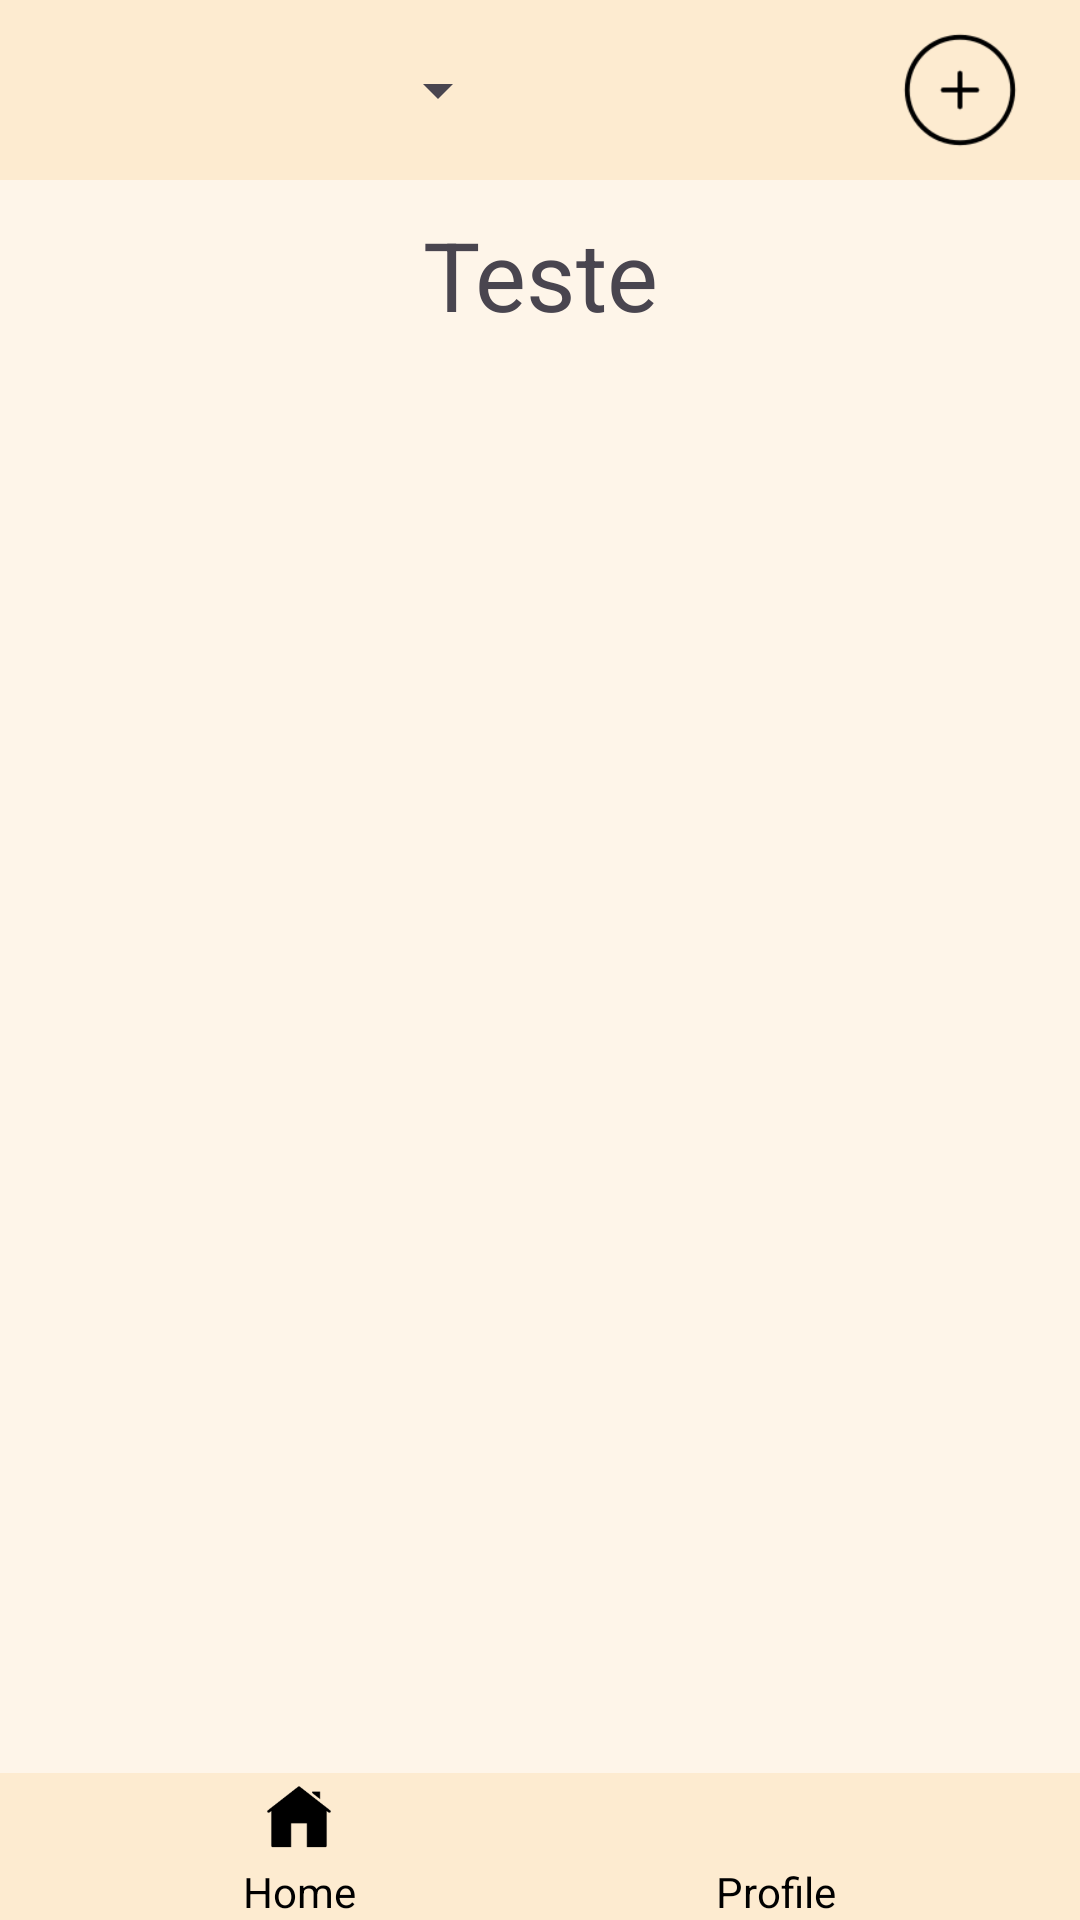

Icons on this 1080×1920 Android screen, each with its box as (x1, y1, x2, y2):
add: (904, 34, 1016, 146)
